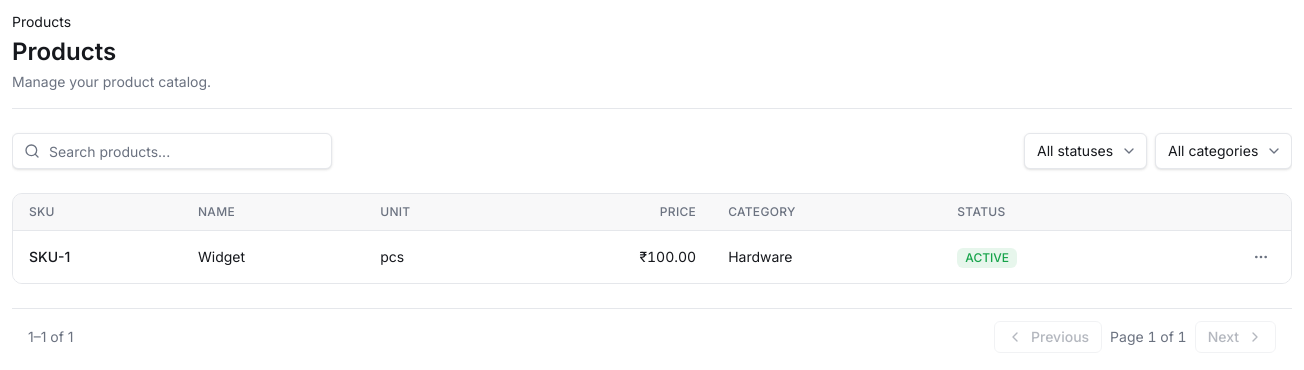
Scenario: ProductsListPage › RBAC visibility › EMPLOYEE sees products but no Create button and no Edit/Deactivate row actions
The width and height of the screenshot is (1304, 370).
Check: the text "Widget" is shown, box [182,231,364,283]
Click the button named "Actions for Widget". click: (1261, 257)
box: [1247,243,1275,271]
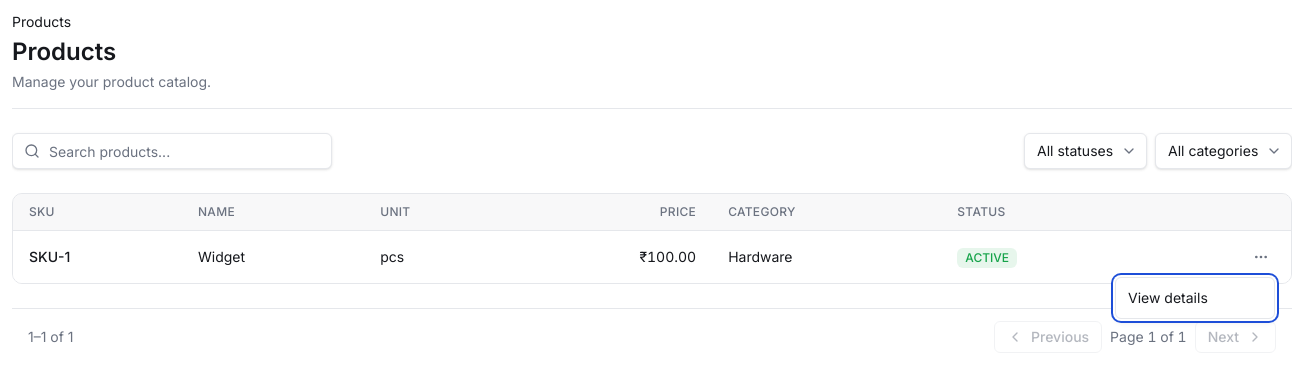
Check: the menu item "View details" is shown, box [1128,289,1208,306]
